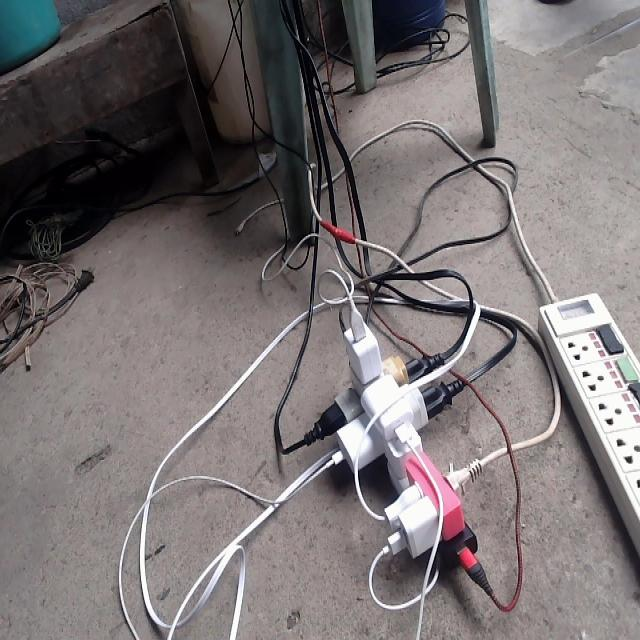-: (301, 296, 493, 595)
